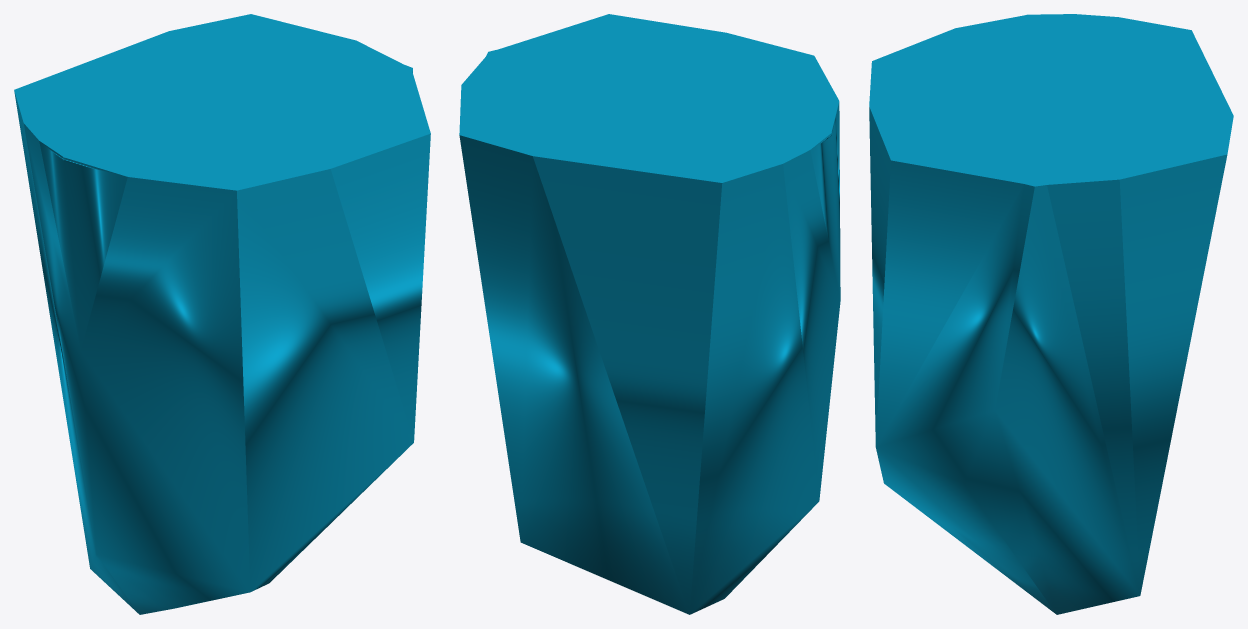
File: BlueSuke_leg_l.obj
3 renders of one model, left to right at view 1: azimuth 30°, elevation 25°; view 2: azimuth 150°, elevation 25°; view 3: azimuth 270°, elevation 25°, orthographic. The views are drawn at different scales.
Visible parts, largest first — view 1: ENEMY_LEG_L; view 2: ENEMY_LEG_L; view 3: ENEMY_LEG_L.
Boxes of the visible parts, bbox=[...] form: ENEMY_LEG_L: bbox=[14, 14, 430, 614]; ENEMY_LEG_L: bbox=[459, 14, 840, 614]; ENEMY_LEG_L: bbox=[869, 14, 1233, 614].
Bounding box in the file's own units: 0.4523 × 0.6044 × 0.4017.
1 material, 1 textured.
